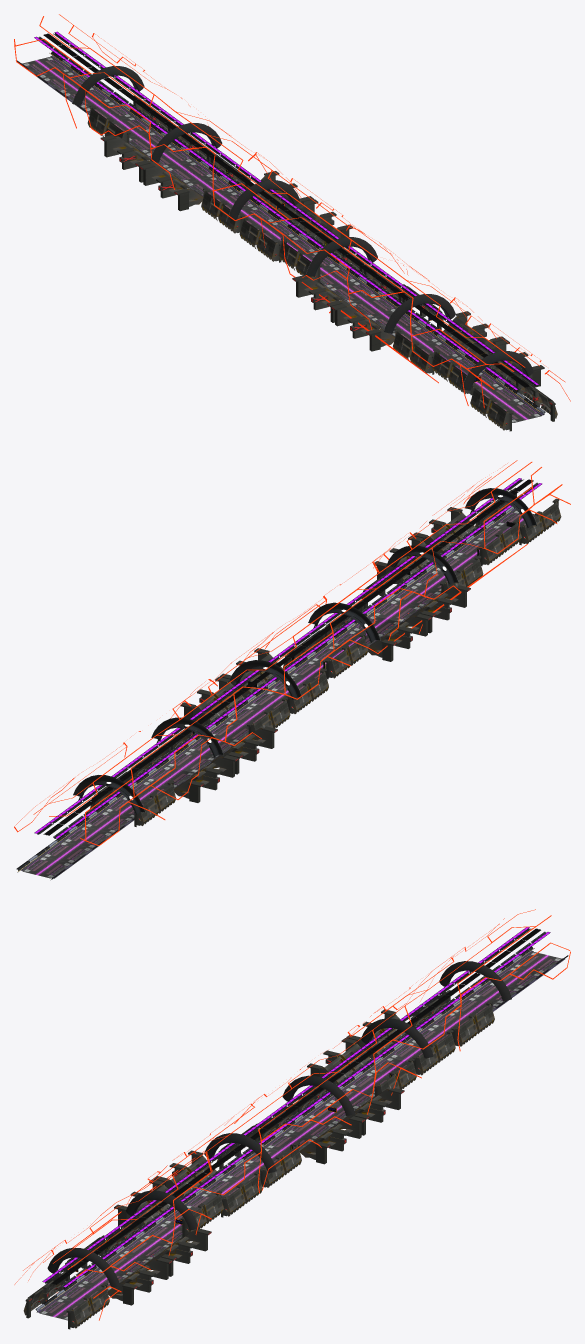
File: staza_small (Stralo)5.glb
3 renders of one model, top to bottom at view 1: azimuth 30°, elevation 25°; view 2: azimuth 150°, elevation 25°; view 3: azimuth 330°, elevation 25°, orthographic.
Parts seen in each view (by area): view 1: Platform6x6_PlatformFloor6x6_0, Cylinder.002, wall1_wall_0.013, wall1_wall_0.018, wall1_wall_0.017, wall1_wall_0.012, wall1_wall_0.007, wall1_wall_0.003, wall1_wall_0.021, Port.002, Port.006, Port.004 (+13 smaller); view 2: Platform6x6_PlatformFloor6x6_0, Cylinder.002, wall1_wall_0.012, wall1_wall_0.017, wall1_wall_0.013, wall1_wall_0.018, wall1_wall_0.008, wall1_wall_0.002, wall1_wall_0.016, Port.005, Port.001, Port.003 (+12 smaller); view 3: Platform6x6_PlatformFloor6x6_0, Cylinder.002, wall1_wall_0.007, wall1_wall_0.002, wall1_wall_0.003, wall1_wall_0.008, wall1_wall_0.013, wall1_wall_0.017, Port.001, Port.002, wall1_wall_0, Port.005 (+13 smaller).
Part boxes in pixels (x1,y1,x2,y2): Platform6x6_PlatformFloor6x6_0: (21,55,544,422); Cylinder.002: (14,14,570,408); wall1_wall_0.013: (139,163,203,211); wall1_wall_0.018: (331,304,394,351); wall1_wall_0.017: (292,275,354,322); wall1_wall_0.012: (100,135,159,182); wall1_wall_0.007: (290,199,352,244); wall1_wall_0.003: (443,311,505,359); wall1_wall_0.021: (470,385,513,431); Port.002: (383,294,455,333); Port.006: (72,66,144,105); Port.004: (228,180,300,219); Platform6x6_PlatformFloor6x6_0: (20,508,536,878); Cylinder.002: (14,460,570,845); wall1_wall_0.012: (174,755,238,802); wall1_wall_0.017: (368,614,431,661); wall1_wall_0.013: (212,726,277,774); wall1_wall_0.018: (404,585,470,633); wall1_wall_0.008: (180,677,243,721); wall1_wall_0.002: (413,507,475,553); wall1_wall_0.016: (325,632,368,679); Port.005: (151,717,223,757); Port.001: (465,488,537,528); Port.003: (308,602,380,642); Platform6x6_PlatformFloor6x6_0: (36,950,564,1320); Cylinder.002: (14,909,570,1320); wall1_wall_0.007: (299,1116,365,1164); wall1_wall_0.002: (107,1257,172,1305); wall1_wall_0.003: (145,1229,211,1276); wall1_wall_0.008: (338,1087,404,1135); wall1_wall_0.013: (307,1038,370,1083); wall1_wall_0.017: (153,1150,216,1199); Port.001: (47,1247,120,1287); Port.002: (126,1190,198,1230); wall1_wall_0: (66,1283,109,1329); Port.005: (361,1018,433,1058).
Bounding box in the file's own units: 16.81 × 9.06 × 147.
Materials: 7 (6 with a texture image).
